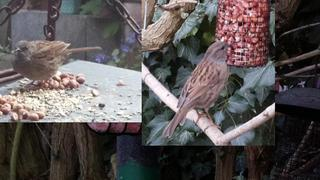dunnock: (162, 40, 235, 138), (12, 40, 102, 92)
